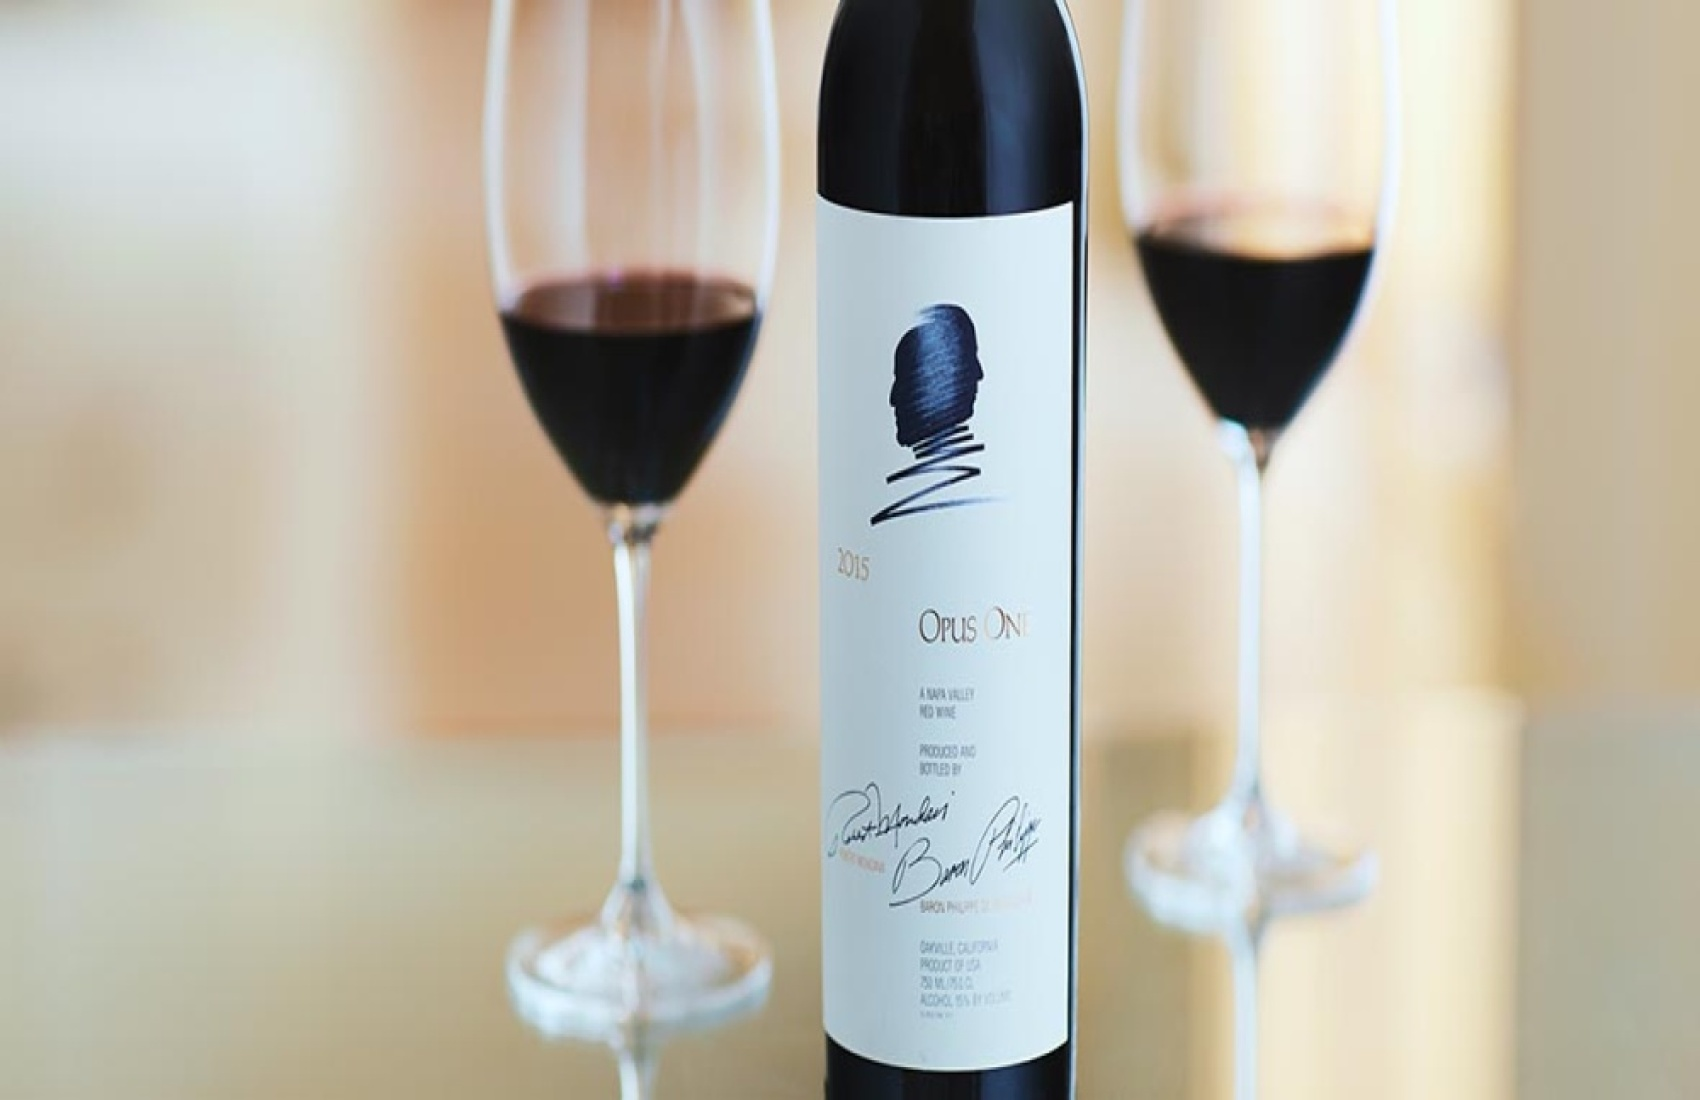wine: (820, 14, 1068, 1098)
